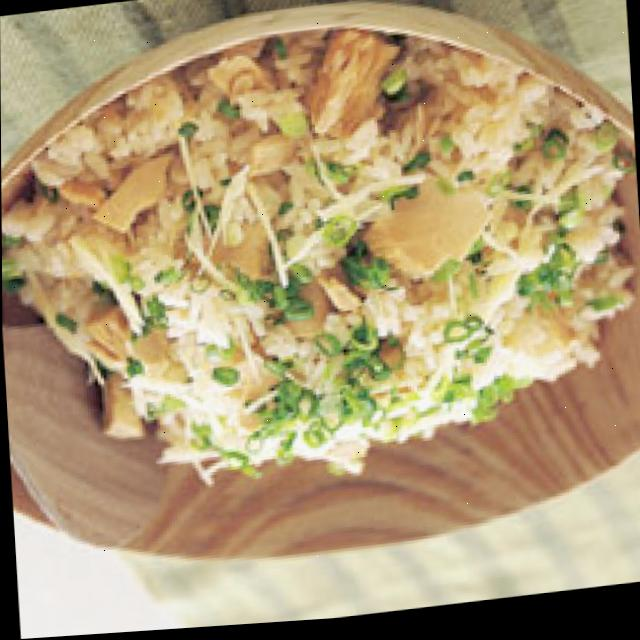米饭主食: (5, 20, 640, 504)
